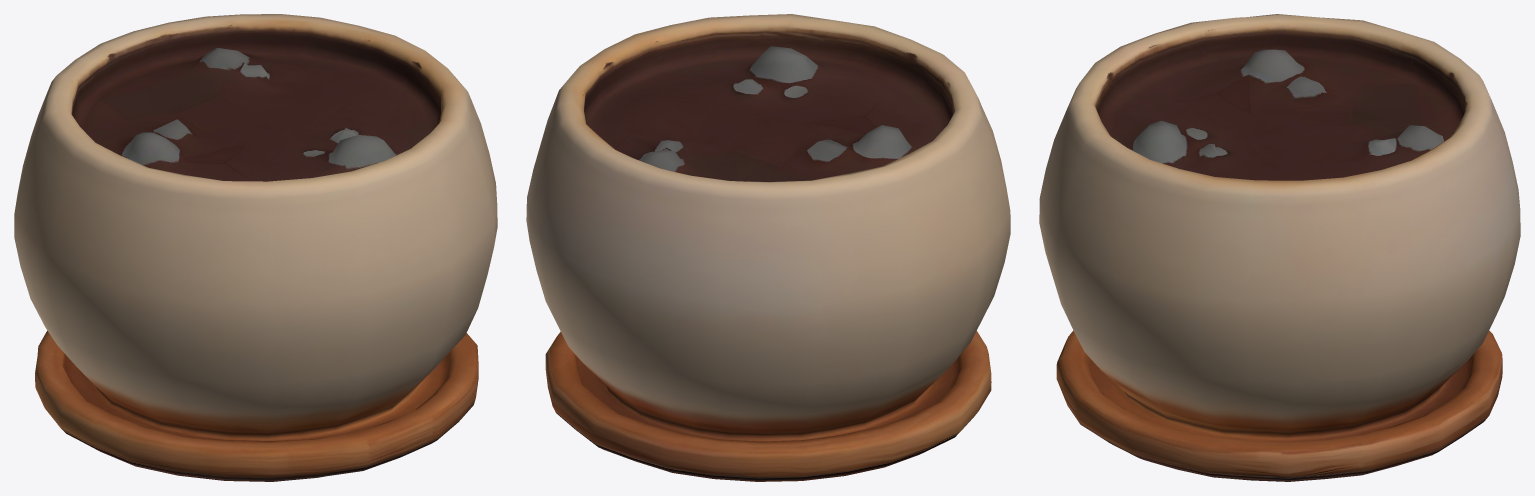
The model's file is pot.glb.
3 views of the same model, side by side, from view 1: azimuth 30°, elevation 25°; view 2: azimuth 150°, elevation 25°; view 3: azimuth 270°, elevation 25° (orthographic).
Visible parts, largest first — view 1: tripo_node_818af746-1bd0-4d1a-bbcb-7c1539f1ecae; view 2: tripo_node_818af746-1bd0-4d1a-bbcb-7c1539f1ecae; view 3: tripo_node_818af746-1bd0-4d1a-bbcb-7c1539f1ecae.
Boxes of the visible parts, <box> form: tripo_node_818af746-1bd0-4d1a-bbcb-7c1539f1ecae: <box>14,14,497,481</box>; tripo_node_818af746-1bd0-4d1a-bbcb-7c1539f1ecae: <box>526,14,1010,481</box>; tripo_node_818af746-1bd0-4d1a-bbcb-7c1539f1ecae: <box>1039,14,1520,481</box>.
Bounding box in the file's own units: 0.9813 × 0.6598 × 0.978.
Materials: 1 (1 with a texture image).
